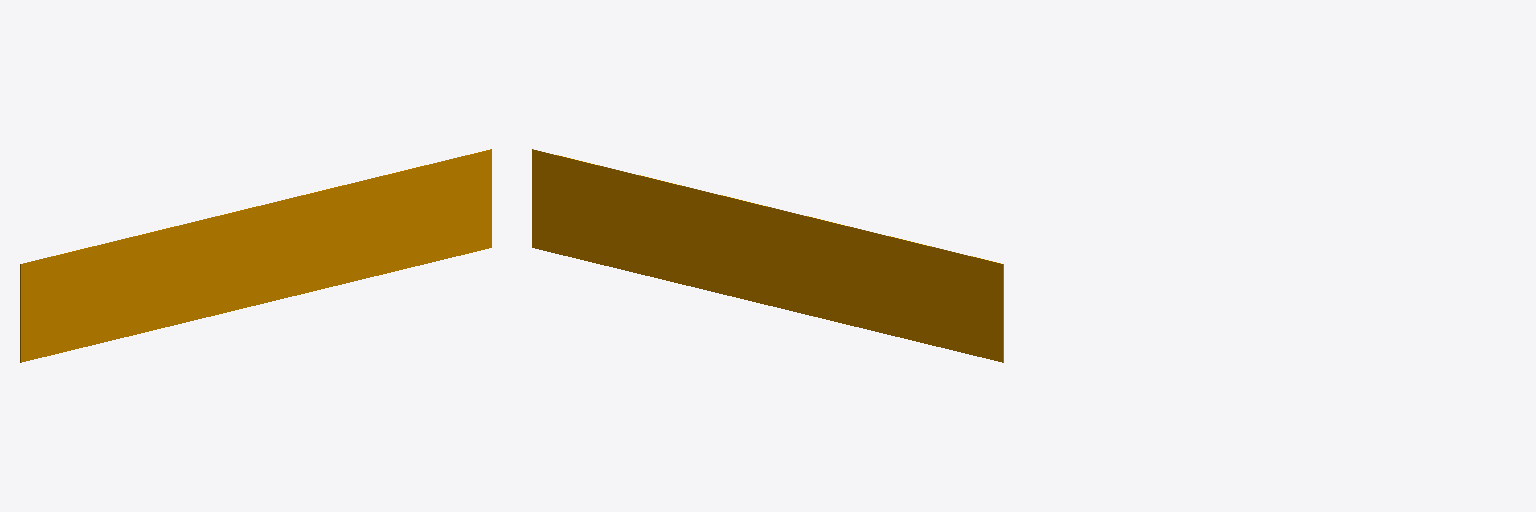
The robot description file, URDF, robot "right_wall":
<?xml version='1.0' encoding='UTF-8'?>
<robot name="right_wall">
  <link name="base_link">
    <inertial>
      <origin xyz="0.0 0.0 0.0" rpy="0.0 -0.0 0.0"/>
      <mass value="1.0"/>
      <inertia ixx="1.0" ixy="0.0" ixz="0.0" iyy="1.0" iyz="0.0" izz="1.0"/>
    </inertial>
    <visual name="base_link_visual">
      <geometry>
        <box size="100 0.1 20"/>
      </geometry>
      <origin xyz="-5.0 0 5.0" rpy="3.14159 0 0"/>
    </visual>
    <collision name="base_link_collision">
      <geometry>
        <box size="100 0.1 20"/>
      </geometry>
      <origin xyz="-5.0 0 5.0" rpy="3.14159 0 0"/>
    </collision>
  </link>
</robot>

--- What the picture shows (computed from the rendered views, not written in the file) ---
3 views of the same robot in one strip: view 1: azimuth 30°, elevation 25°; view 2: azimuth 150°, elevation 25°; view 3: azimuth 270°, elevation 25° (orthographic).
Model right_wall with 1 links and 0 joints (none), rooted at base_link, posed every joint at zero.
Visible links, largest first — view 1: base_link; view 2: base_link; view 3: none.
Link boxes in pixels (x1,y1,x2,y2): base_link: (20, 149, 491, 362); base_link: (532, 149, 1003, 362).
Size in the robot's own frame: 100 by 0.1001 by 20 metres.
Geometry: primitives only (box / cylinder / sphere), no mesh files.